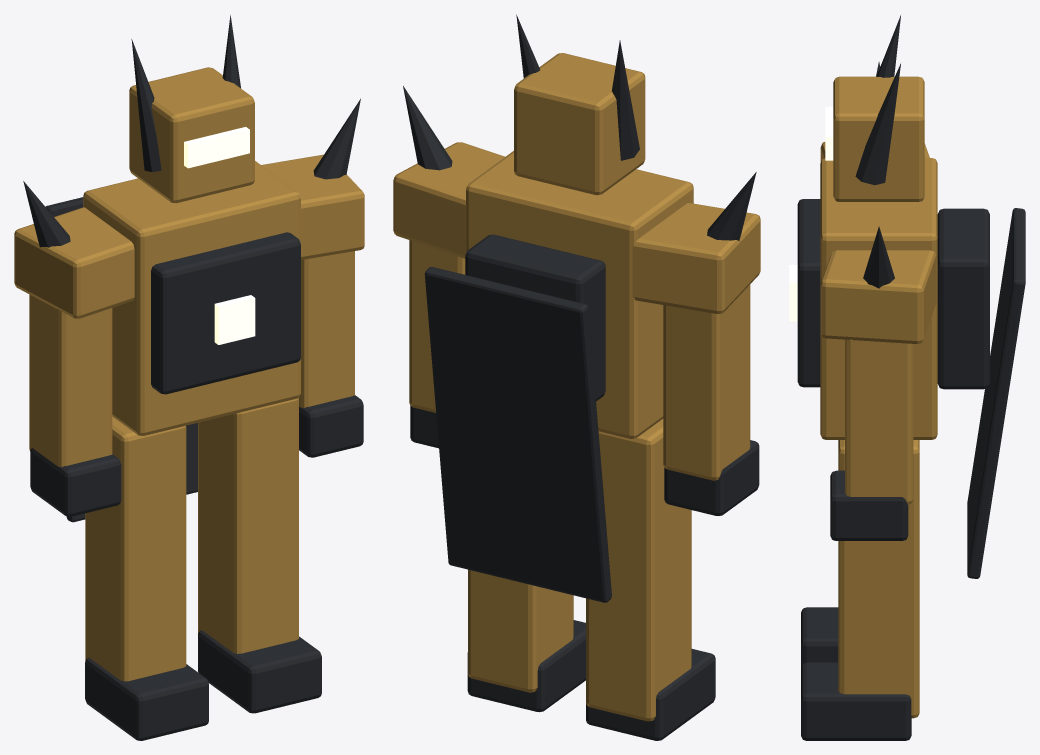
Rendered from EnemyElite.fbx.
3 renders of one model, left to right at view 1: azimuth 30°, elevation 25°; view 2: azimuth 150°, elevation 25°; view 3: azimuth 270°, elevation 25°, orthographic. The views are drawn at different scales.
Parts seen in each view (by area): view 1: LegR, Torso, LegL, ChestPlate, ArmL, Head, PauldronL, ArmR, BootL, BootR, PauldronR, ClawL (+8 smaller); view 2: Cape, Torso, LegL, ArmL, Head, PauldronL, LegR, Backpack, PauldronR, BootL, ArmR, BootR (+6 smaller); view 3: LegR, Torso, ArmR, Backpack, Head, PauldronR, Cape, BootR, ChestPlate, ClawR, HornR, BootL (+4 smaller).
Part boxes in pixels (x1=…): LegR: x1=198, y1=398, x2=298, y2=653; Torso: x1=83, y1=161, x2=300, y2=435; LegL: x1=85, y1=416, x2=186, y2=681; ChestPlate: x1=151, y1=232, x2=300, y2=394; ArmL: x1=29, y1=294, x2=112, y2=467; Head: x1=129, y1=67, x2=254, y2=203; PauldronL: x1=14, y1=207, x2=134, y2=318; ArmR: x1=298, y1=251, x2=354, y2=407; BootL: x1=85, y1=658, x2=208, y2=740; BootR: x1=198, y1=630, x2=321, y2=713; PauldronR: x1=261, y1=154, x2=364, y2=259; ClawL: x1=30, y1=448, x2=121, y2=516; Cape: x1=424, y1=267, x2=611, y2=602; Torso: x1=466, y1=151, x2=693, y2=438; LegL: x1=586, y1=419, x2=691, y2=721; ArmL: x1=663, y1=284, x2=750, y2=480; Head: x1=514, y1=53, x2=645, y2=195; PauldronL: x1=632, y1=203, x2=760, y2=313; LegR: x1=468, y1=569, x2=573, y2=692; Backpack: x1=465, y1=234, x2=605, y2=401; PauldronR: x1=393, y1=142, x2=504, y2=258; BootL: x1=586, y1=649, x2=715, y2=740; ArmR: x1=409, y1=240, x2=465, y2=412; BootR: x1=467, y1=620, x2=585, y2=712; LegR: x1=838, y1=440, x2=919, y2=718; Torso: x1=820, y1=158, x2=937, y2=439; ArmR: x1=845, y1=339, x2=913, y2=504; Backpack: x1=937, y1=208, x2=989, y2=389; Head: x1=833, y1=76, x2=924, y2=201; PauldronR: x1=820, y1=250, x2=936, y2=343; Cape: x1=967, y1=208, x2=1025, y2=578; BootR: x1=801, y1=662, x2=911, y2=740; ChestPlate: x1=797, y1=199, x2=820, y2=387; ClawR: x1=830, y1=470, x2=908, y2=540; HornR: x1=855, y1=63, x2=900, y2=185; BootL: x1=801, y1=607, x2=838, y2=666.
Bounding box in the file's own units: 1.2 × 2.23 × 0.7244.
